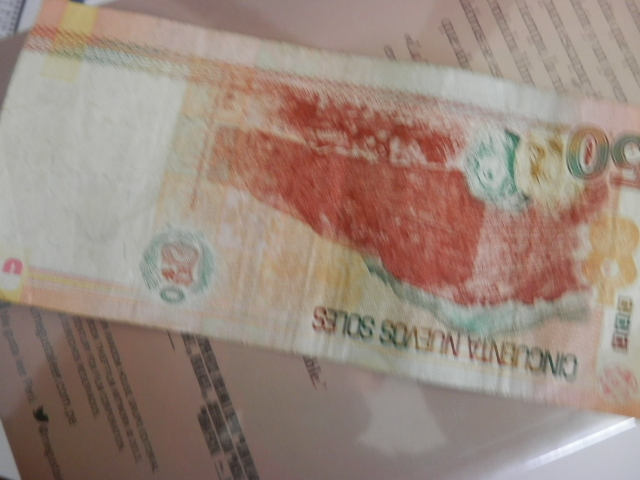B50: (5, 9, 640, 424)
